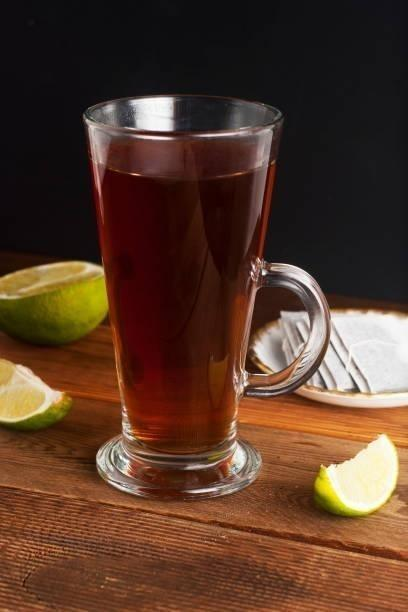glass-mug: (80, 92, 335, 503)
